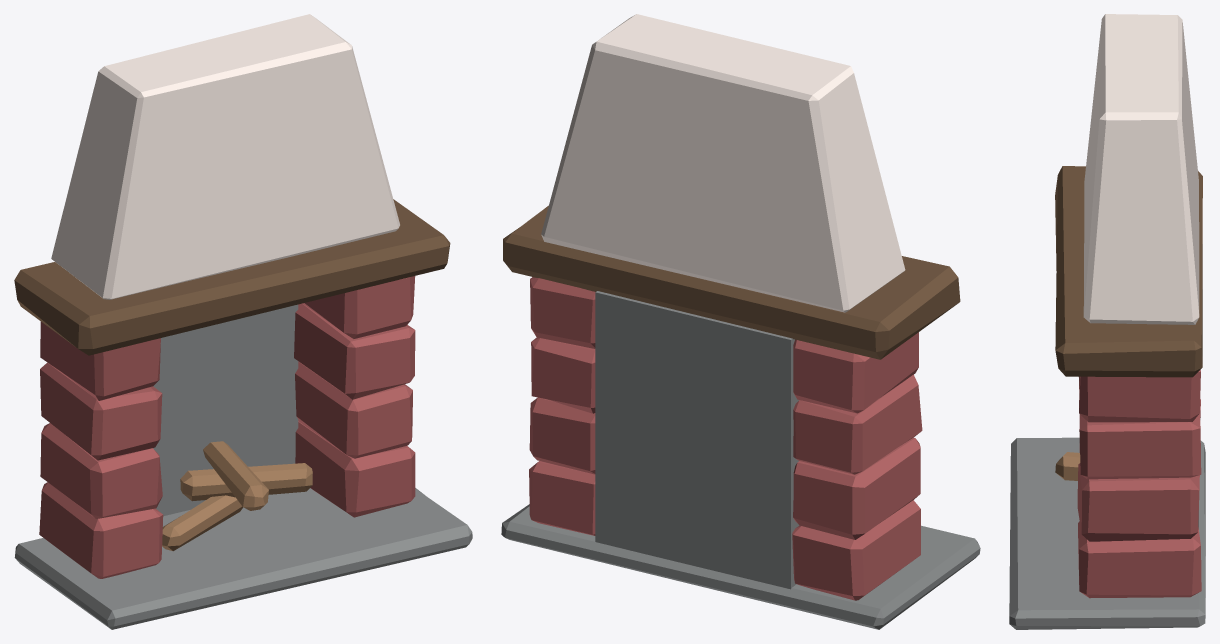
The model's file is PKX_Fireplace.fbx.
The picture shows the model from 3 angles, left to right: view 1: azimuth 30°, elevation 25°; view 2: azimuth 150°, elevation 25°; view 3: azimuth 270°, elevation 25°; orthographic projection. The views are drawn at different scales.
Visible parts, largest first — view 1: PKX_Fireplace; view 2: PKX_Fireplace; view 3: PKX_Fireplace.
Part boxes in pixels (<box>): PKX_Fireplace: <box>14,14,472,629</box>; PKX_Fireplace: <box>501,14,980,629</box>; PKX_Fireplace: <box>1009,14,1205,629</box>.
Size of the model in its own units: 163 by 205 by 75.71.
